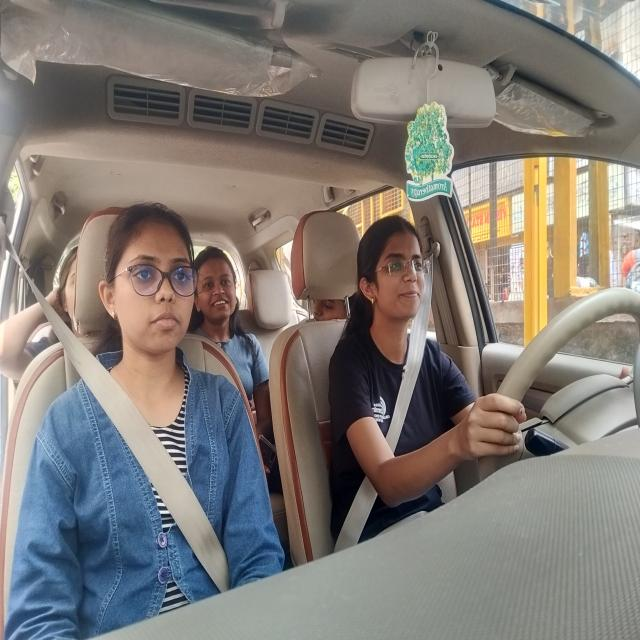person: (99, 222, 201, 358), (358, 211, 434, 336), (194, 236, 241, 322), (56, 246, 79, 334)
